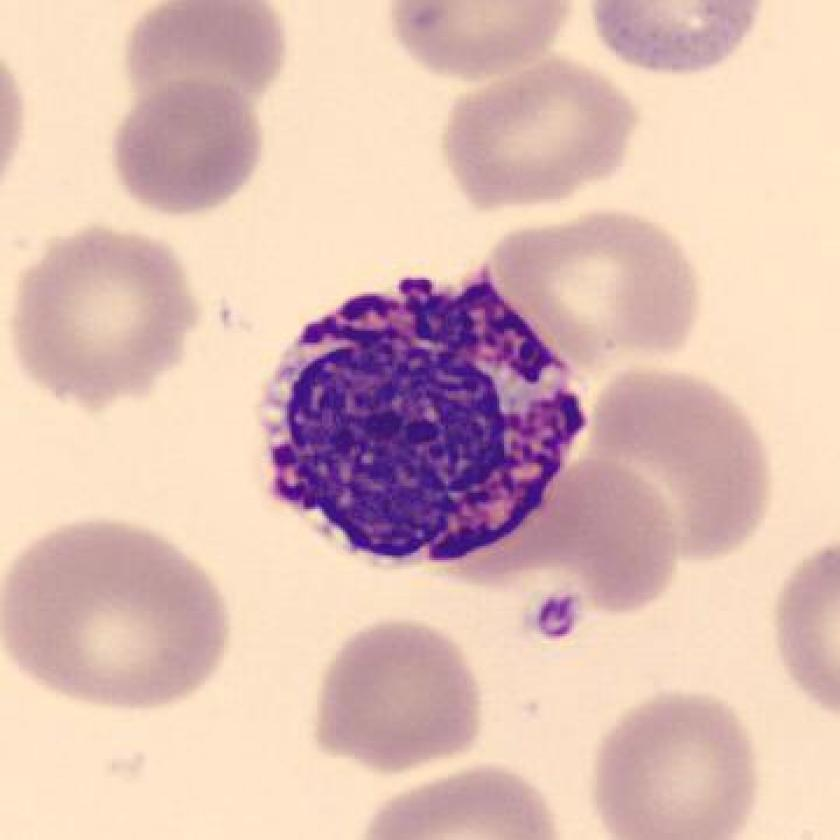basophil: (267, 251, 591, 570)
